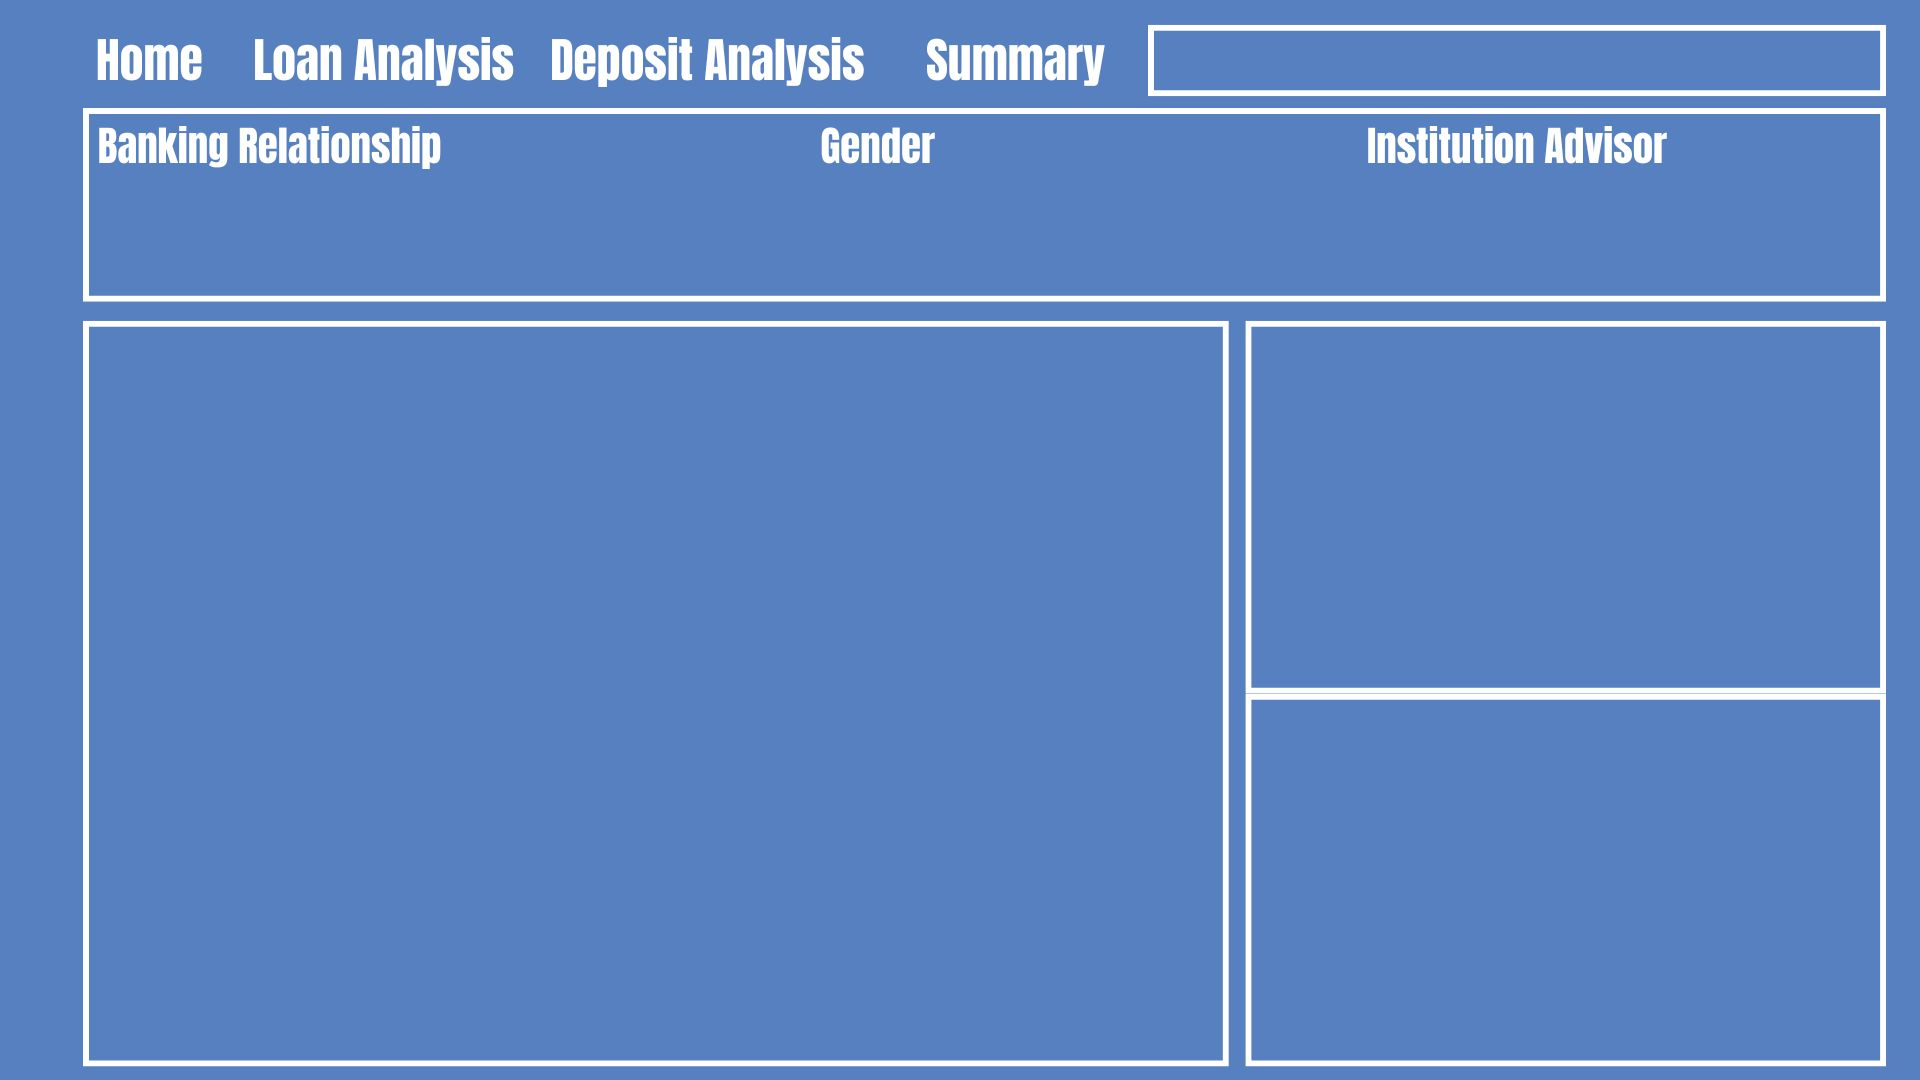

This screenshot's page, from the dashboard's own definition file:
{"tool":"powerbi","page":{"name":"Drill Through","canvas":[1280,720],"ordinal":4},"visuals":[{"type":"slicer","fields":{"Values":["banking_case customer.BRId"]},"box":[36.7,113.3,500.7,78.1],"z":0},{"type":"slicer","fields":{"Values":["banking_case customer.GenderId"]},"box":[512.9,113.3,375.1,78.1],"z":1},{"type":"slicer","fields":{"Values":["banking_case customer.IAId"]},"box":[886.5,113.3,358.3,78.1],"z":2},{"type":"actionButton","box":[49,19.9,99.5,39.8],"z":3},{"type":"actionButton","box":[163.8,19.9,186.8,39.8],"z":4},{"type":"actionButton","box":[365.9,19.9,217.4,39.8],"z":5},{"type":"actionButton","box":[614,19.9,127.1,39.8],"z":6},{"type":"slicer","fields":{"Values":["banking_case customer.Year of joining"]},"box":[754.8,15.3,514.4,49],"z":7},{"type":"tableEx","fields":{"Values":["banking_case customer.Name","banking_case customer.Credit Card Balance","banking_case customer.Estimated Income","banking_case customer.Loyalty Classification","banking_case customer.Occupation","banking_case customer.Saving Accounts"]},"box":[61.2,220.5,751.8,482.3],"z":9},{"type":"clusteredColumnChart","fields":{"Y":["banking_case customer.Loyalty Classification"],"Category":["banking_case customer.Fee Structure"]},"box":[839,220.5,407.3,229.7],"z":10},{"type":"clusteredColumnChart","fields":{"Category":["banking_case customer.Nationality"],"Y":["banking_case customer.Occupation"],"Series":["banking_case customer.Fee Structure"]},"box":[839,473.1,407.3,229.7],"z":11}]}

Visuals, with their boxes in screenshot pixels (x1, y1, x2, y2), scaled from the page's 1280x720 canvas onto the 1920x1080 screenshot:
slicer - banking_case customer.BRId: (55,170,806,287)
slicer - banking_case customer.GenderId: (769,170,1332,287)
slicer - banking_case customer.IAId: (1330,170,1867,287)
actionButton: (74,30,223,90)
actionButton: (246,30,526,90)
actionButton: (549,30,875,90)
actionButton: (921,30,1112,90)
slicer - banking_case customer.Year of joining: (1132,23,1904,96)
tableEx - banking_case customer.Name x banking_case customer.Credit Card Balance: (92,331,1220,1054)
clusteredColumnChart - banking_case customer.Loyalty Classification x banking_case customer.Fee Structure: (1258,331,1869,675)
clusteredColumnChart - banking_case customer.Nationality x banking_case customer.Occupation: (1258,710,1869,1054)
